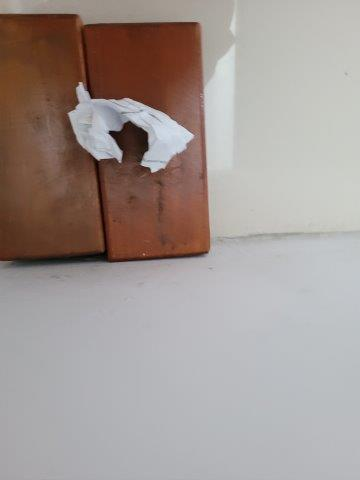kertas: (67, 82, 195, 172)
